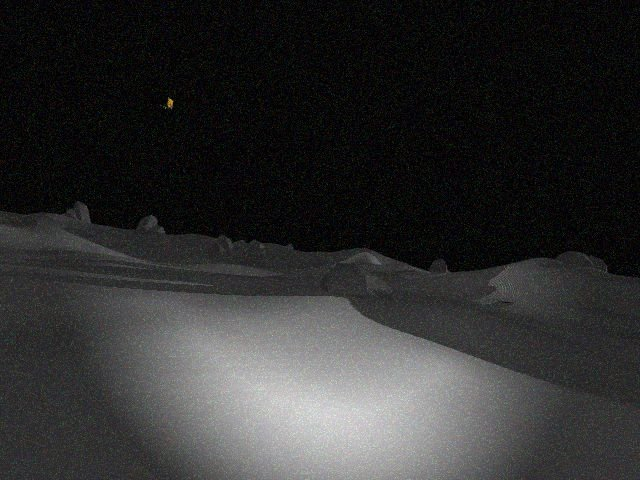cubesat: (154, 95, 177, 111)
